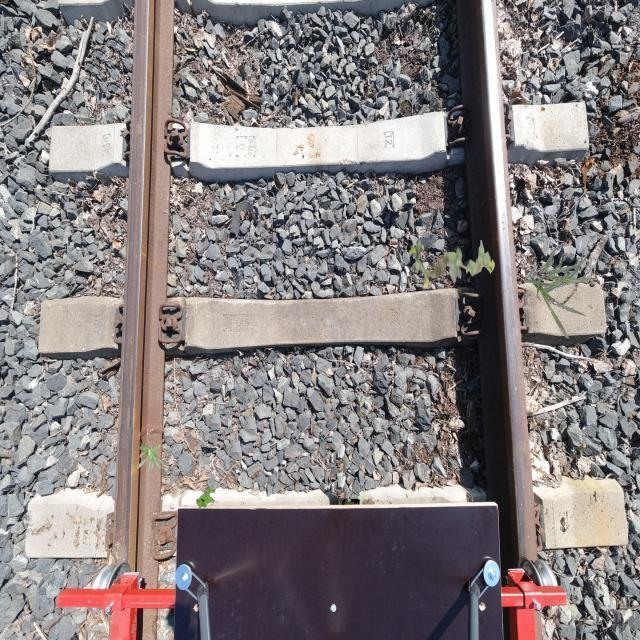Plant: (524, 245, 597, 338), (409, 238, 496, 290), (137, 441, 170, 476), (196, 486, 216, 511)
